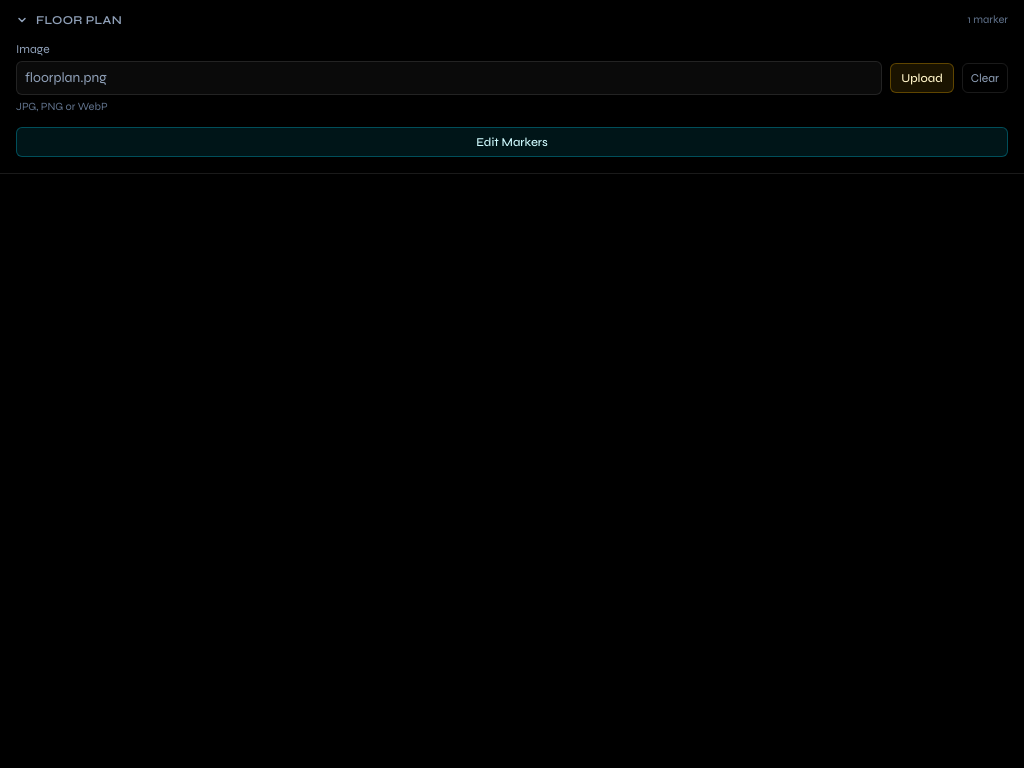
Test: Edit Markers opens the floor plan editor modal
What coordinates should you click on to do the following:
click the button "Edit Markers"
I would click on:
 (512, 142)
Its box is x1=16 y1=126 x2=1008 y2=156.
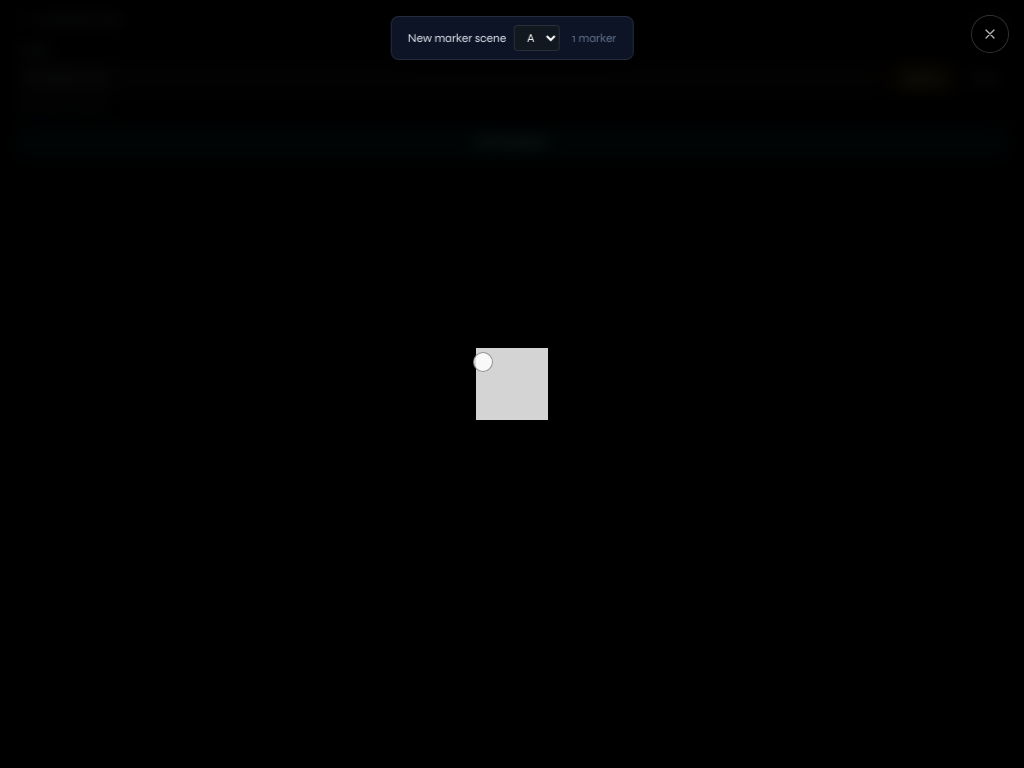
Expected: the dialog named "Floor plan marker editor" is shown
